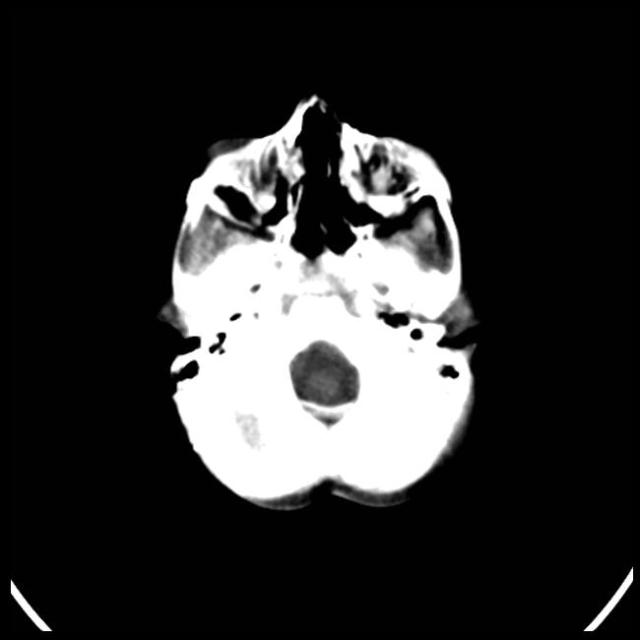lesion: (152, 89, 488, 516)
